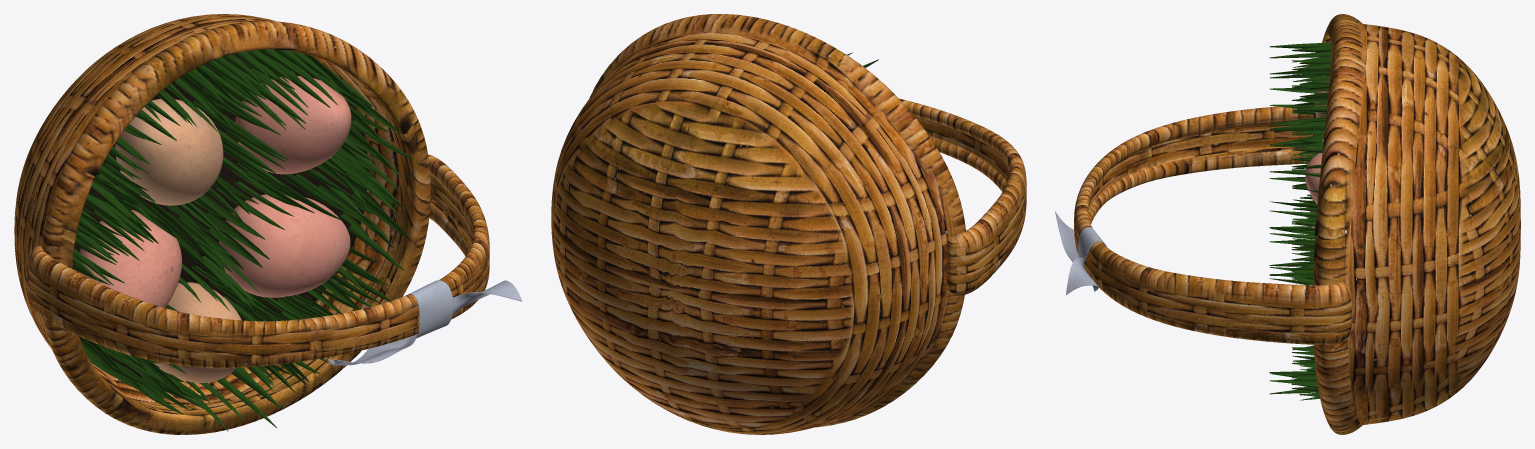
File: basket.obj
3 renders of one model, left to right at view 1: azimuth 30°, elevation 25°; view 2: azimuth 150°, elevation 25°; view 3: azimuth 270°, elevation 25°, orthographic. The views are drawn at different scales.
Parts seen in each view (by area): view 1: 12952_Easter_Basket, 12952_Easter_Basket_Grass, 12952_Easter_Basket_Eggs, 12952_Easter_Basket_Base, 12952_Easter_Basket_Ribbon; view 2: 12952_Easter_Basket; view 3: 12952_Easter_Basket, 12952_Easter_Basket_Grass, 12952_Easter_Basket_Ribbon, 12952_Easter_Basket_Eggs.
Boxes of the visible parts, bbox=[...] form: 12952_Easter_Basket: bbox=[14, 14, 489, 434]; 12952_Easter_Basket_Grass: bbox=[72, 49, 413, 431]; 12952_Easter_Basket_Eggs: bbox=[74, 76, 351, 382]; 12952_Easter_Basket_Base: bbox=[72, 53, 367, 377]; 12952_Easter_Basket_Ribbon: bbox=[327, 280, 522, 365]; 12952_Easter_Basket: bbox=[551, 14, 1026, 434]; 12952_Easter_Basket: bbox=[1074, 14, 1520, 434]; 12952_Easter_Basket_Grass: bbox=[1269, 42, 1331, 400]; 12952_Easter_Basket_Ribbon: bbox=[1055, 211, 1106, 294]; 12952_Easter_Basket_Eggs: bbox=[1305, 75, 1328, 228].
Size of the model in its own units: 30.19 by 28.19 by 31.21.
2 materials, 2 textured.
